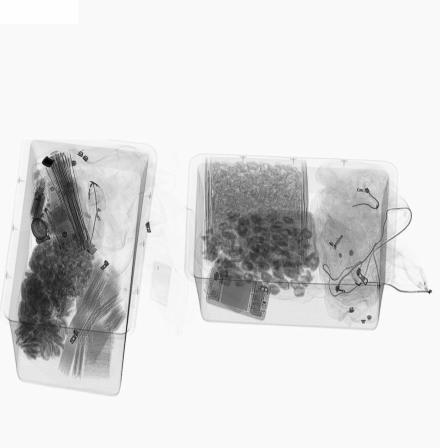Powerbank: (30, 180, 48, 220)
